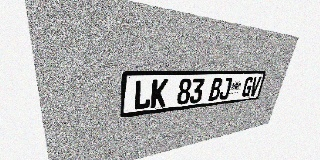3: (189, 78, 205, 104)
8: (176, 78, 193, 105)
B: (208, 78, 223, 101)
G: (241, 77, 254, 97)
J: (218, 77, 233, 100)
K: (150, 79, 168, 108)
L: (133, 80, 152, 110)
V: (249, 76, 261, 96)
